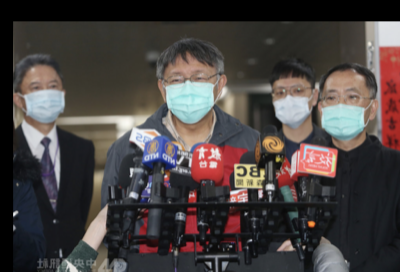with_mask: (163, 65, 217, 121), (318, 84, 369, 138), (21, 75, 62, 123), (271, 81, 311, 125)
